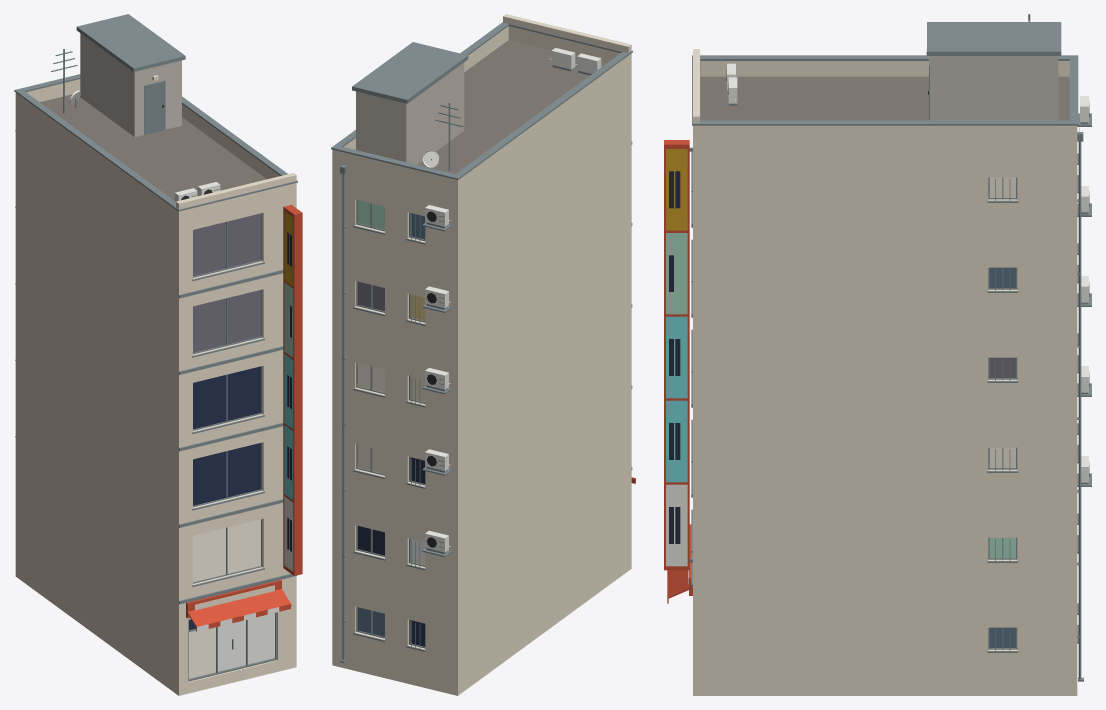
File: tb_pencil_building_6f_01.fbx
3 views of the same model, side by side, from view 1: azimuth 30°, elevation 25°; view 2: azimuth 150°, elevation 25°; view 3: azimuth 270°, elevation 25° (orthographic). The views are drawn at different scales.
Parts seen in each view (by area): view 1: tb_pencil_building_6f_01; view 2: tb_pencil_building_6f_01; view 3: tb_pencil_building_6f_01.
Part boxes in pixels (box(x1,y1,x2,y2)): tb_pencil_building_6f_01: box(14, 14, 302, 695); tb_pencil_building_6f_01: box(331, 14, 635, 695); tb_pencil_building_6f_01: box(664, 14, 1091, 695).
Size of what is drawn, in the model's own units: 5.09 by 21.95 by 13.35.
Materials: 3 (3 with a texture image).
